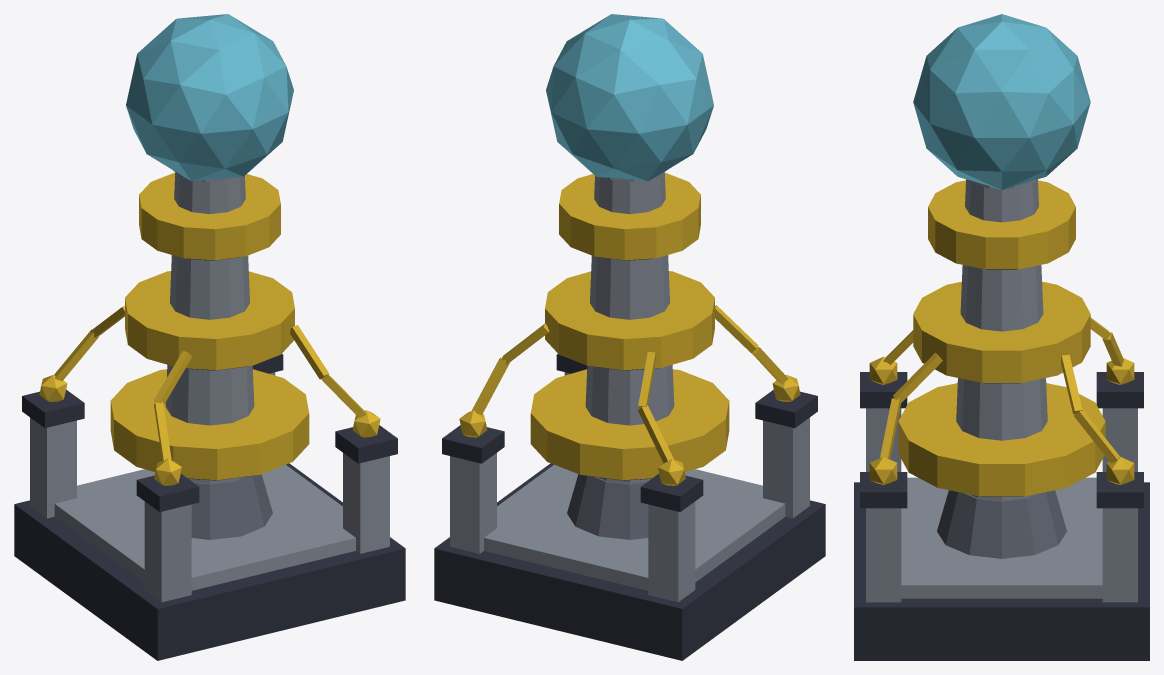
The model's file is Decor_HeroHQ_Coil.fbx.
The picture shows the model from 3 angles, left to right: view 1: azimuth 30°, elevation 25°; view 2: azimuth 150°, elevation 25°; view 3: azimuth 270°, elevation 25°; orthographic projection. The views are drawn at different scales.
Parts seen in each view (by area): view 1: Coil_Body; view 2: Coil_Body; view 3: Coil_Body.
Part boxes in pixels (bbox=[...]): Coil_Body: bbox=[14, 14, 405, 660]; Coil_Body: bbox=[434, 14, 825, 660]; Coil_Body: bbox=[854, 14, 1149, 660].
Bounding box in the file's own units: 10 × 21.5 × 10.
